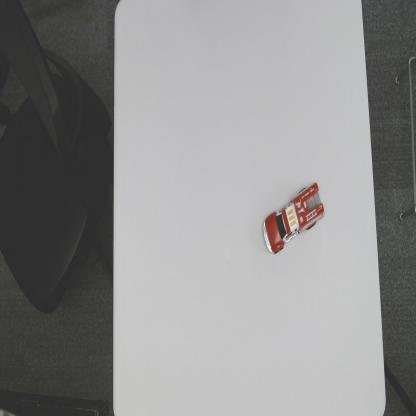Firetruck: (261, 181, 326, 256)
